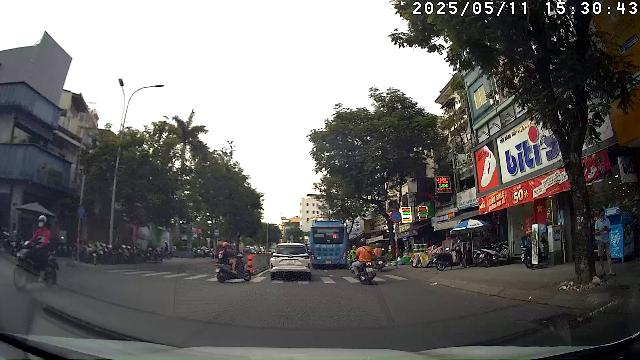131a-cam-do-xe: (390, 210, 401, 223)
